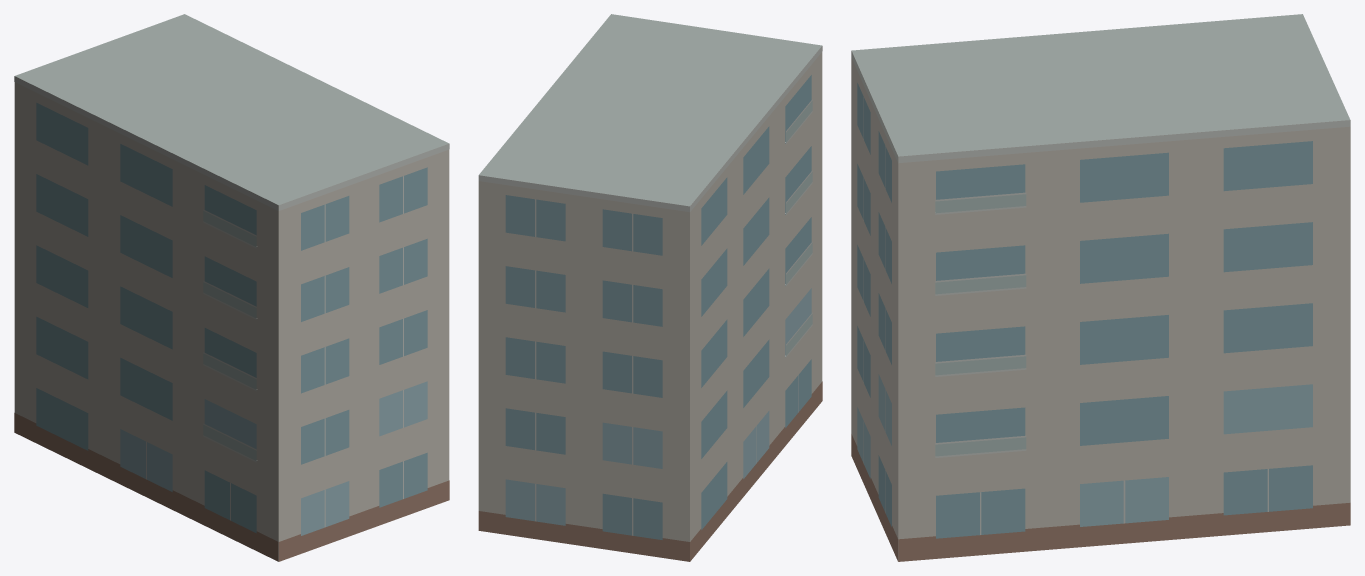
File: survey-upis-32990478.glb
The picture shows the model from 3 angles, left to right: view 1: azimuth 30°, elevation 25°; view 2: azimuth 150°, elevation 25°; view 3: azimuth 270°, elevation 25°; orthographic projection. The views are drawn at different scales.
Visible parts, largest first — view 1: survey-upis-32990478.tmp; view 2: survey-upis-32990478.tmp; view 3: survey-upis-32990478.tmp.
Boxes of the visible parts, x1,y1,x2,y2 form: survey-upis-32990478.tmp: (14, 14, 449, 561); survey-upis-32990478.tmp: (478, 14, 822, 561); survey-upis-32990478.tmp: (851, 14, 1350, 561).
Bounding box in the file's own units: 11.25 × 14.9 × 16.64.
